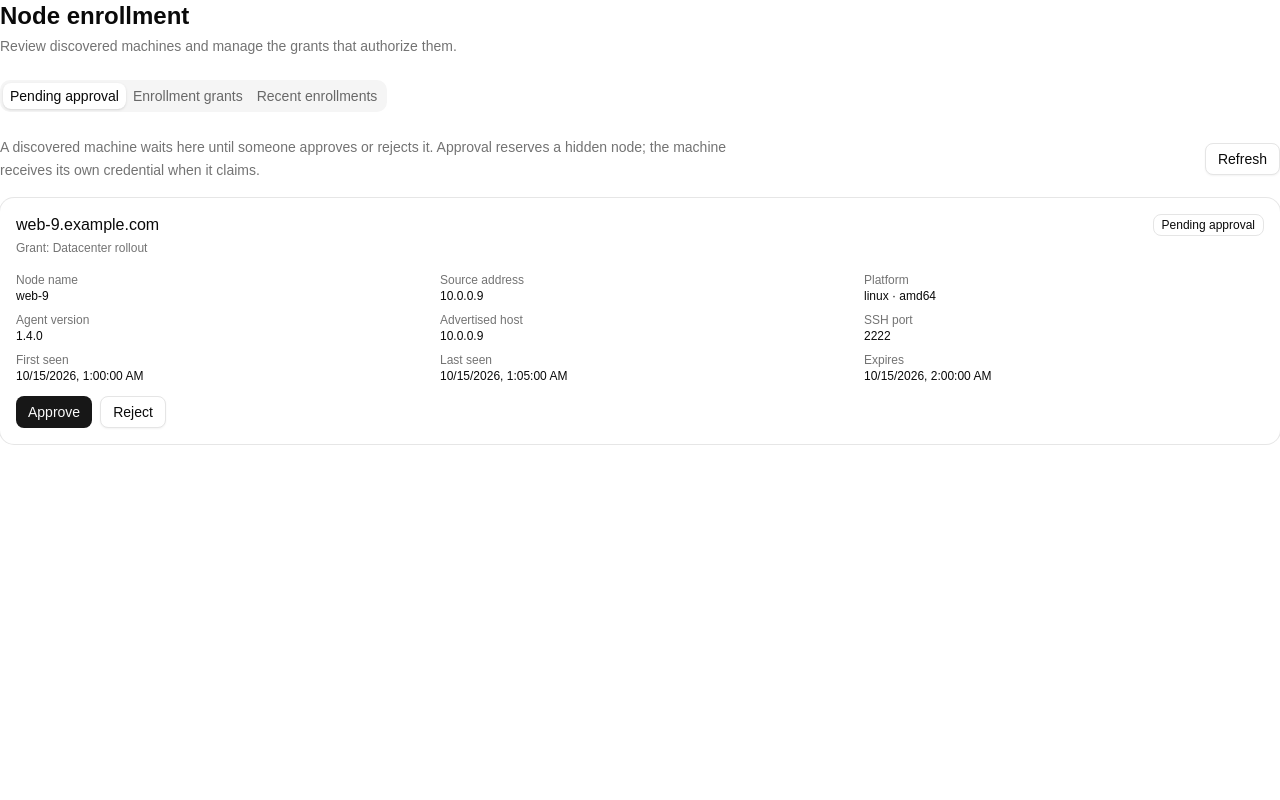
it: node enrollment workspace › blocks an approval without a node name and keeps the dialog open
Click the button "Approve": (54,412) [16, 396, 92, 428]
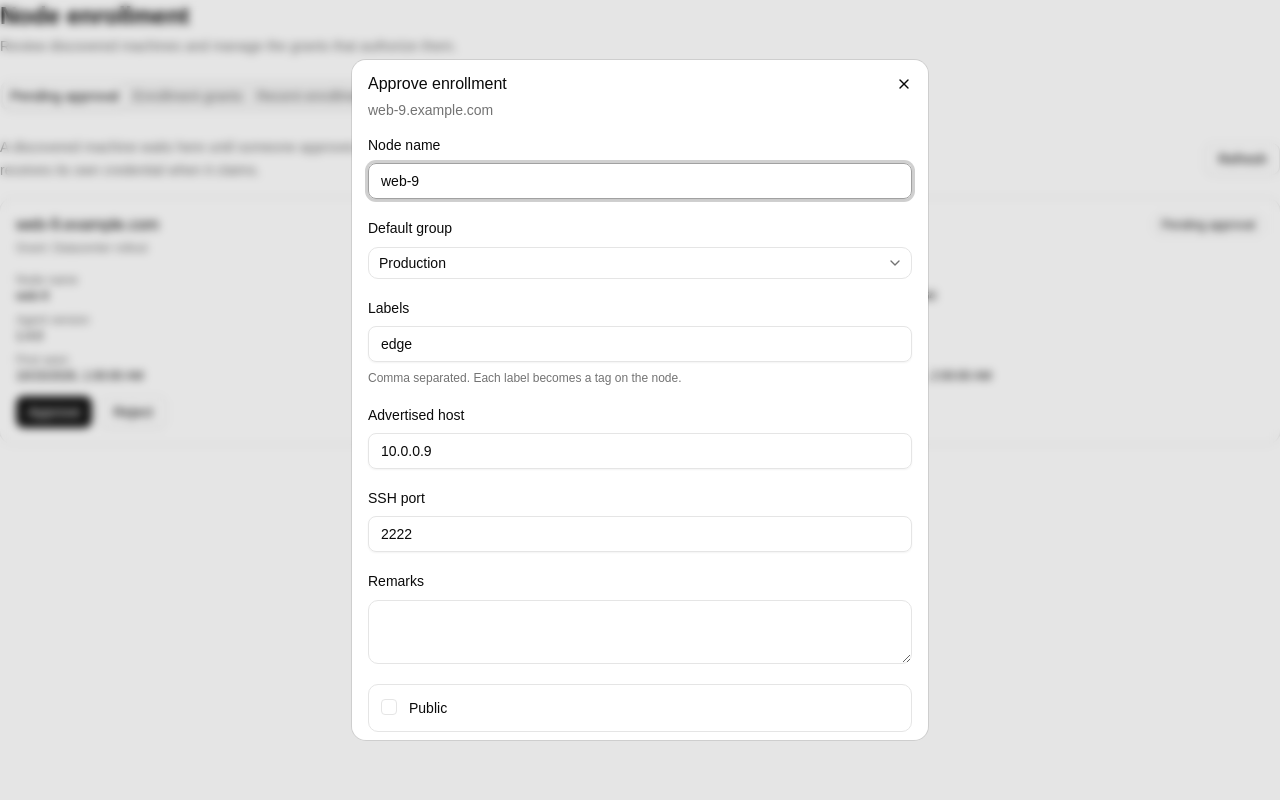
Clear the field labelled "Node name": (640,181) [368, 163, 912, 199]
(page scrolled)
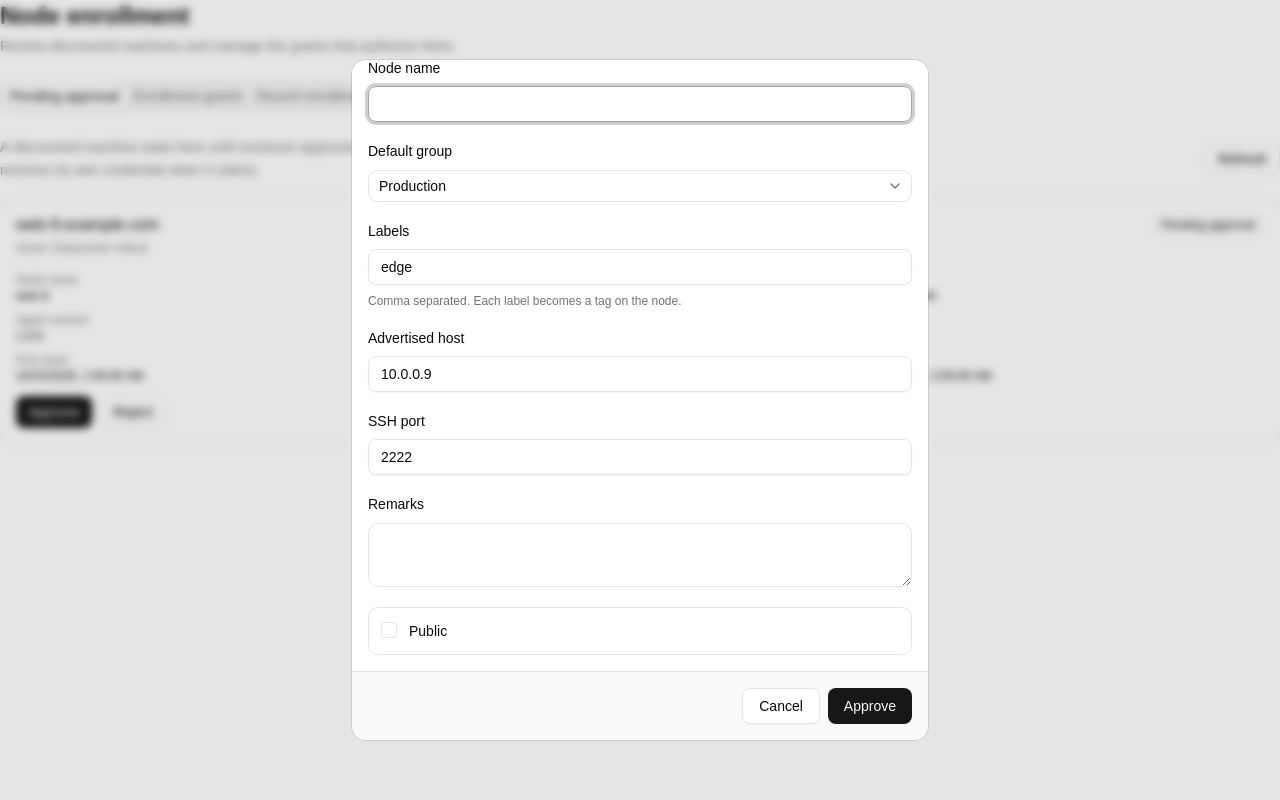
Click the button "Approve": (870,706) [828, 688, 912, 724]
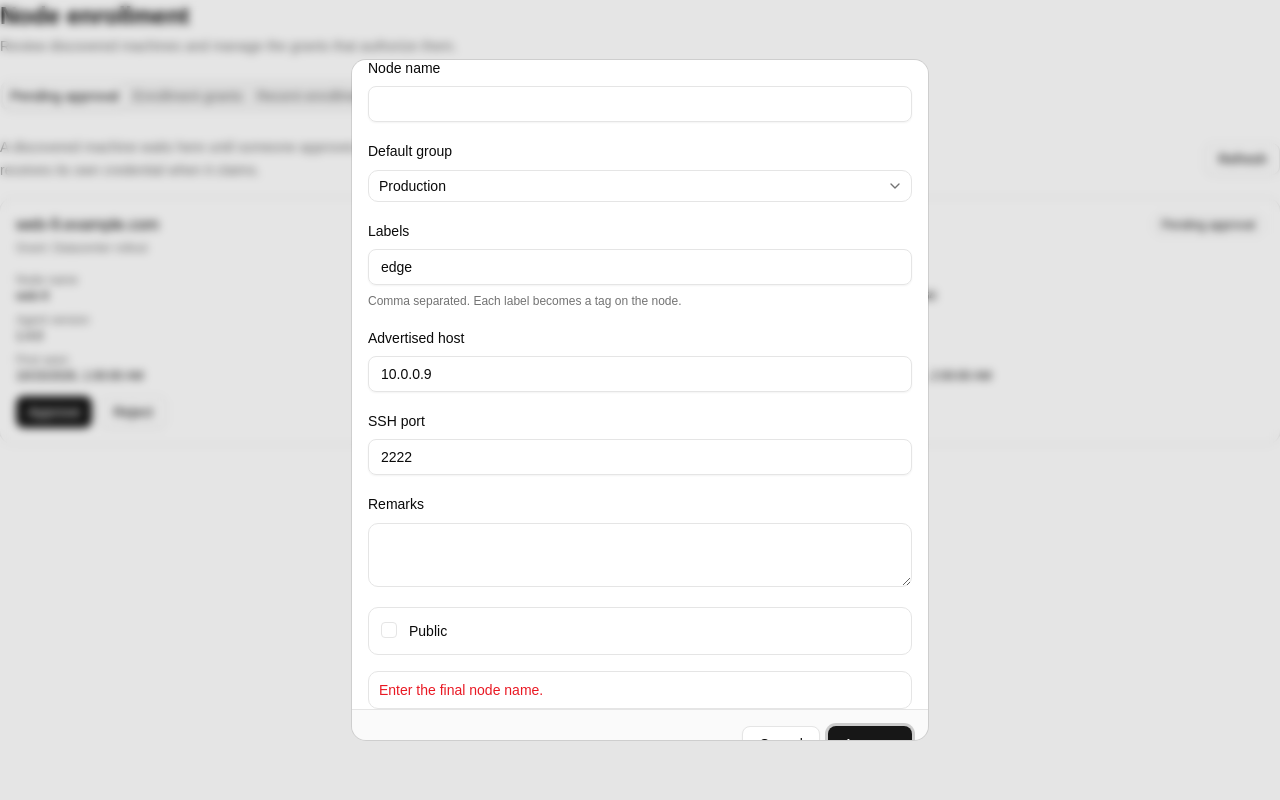
Now the text "Enter the final node name." is shown, box [379, 682, 543, 698]
